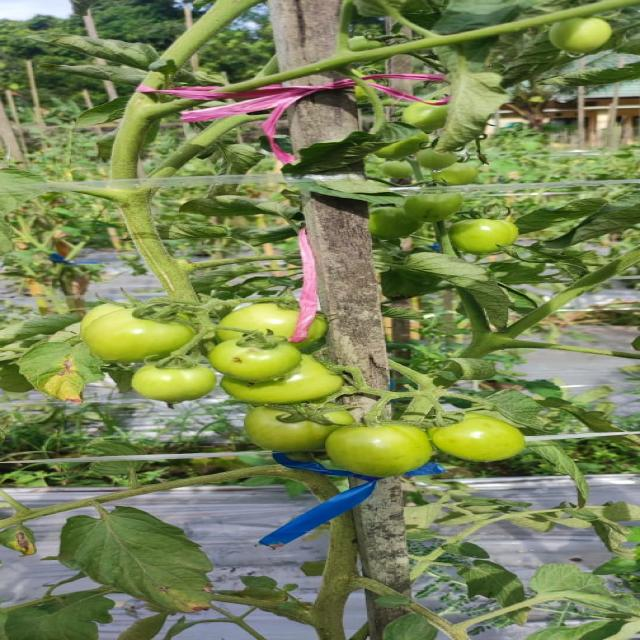unripe tomato: (81, 306, 196, 363), (218, 353, 343, 404), (323, 422, 433, 477), (243, 403, 354, 452), (213, 301, 328, 348), (428, 412, 526, 462), (207, 332, 301, 382), (128, 357, 216, 404), (447, 218, 519, 254), (547, 16, 612, 53), (400, 96, 450, 131), (367, 205, 420, 238)
